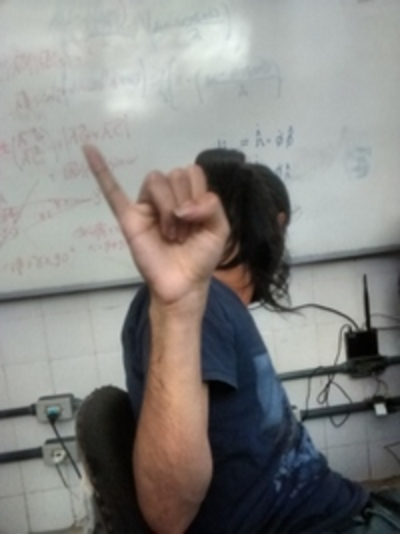closedhandfront: (129, 161, 233, 305)
mindinho: (75, 133, 134, 207)
